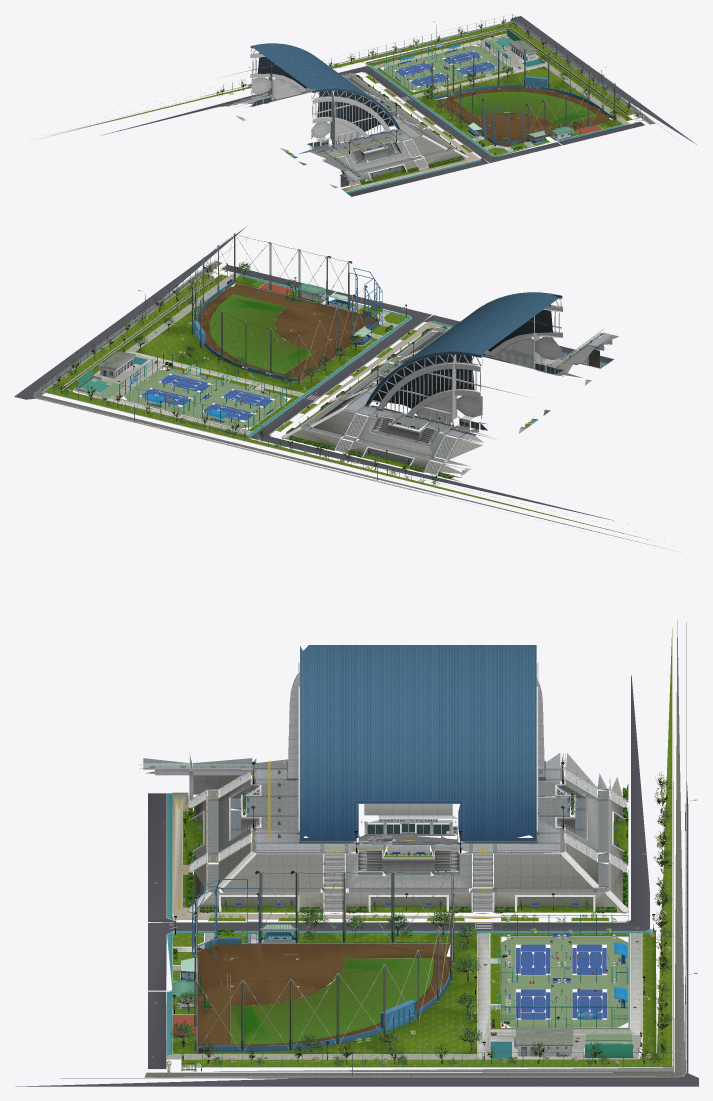
Rendered from raimonN3.glb.
3 renders of one model, top to bottom at view 1: azimuth 30°, elevation 25°; view 2: azimuth 150°, elevation 25°; view 3: azimuth 270°, elevation 25°, orthographic. The views are drawn at different scales.
Visible parts, largest first — view 1: w40h020__0__569__0_r3, w40g003__10__415__0_r3, w40g000__12__339__0_r3, w40h012__1__386__0, w40h013__2__515__0, w40h012__15__399__0, w40h012__13__397__0, w40g003a__2__528__0, w40g003__21__425__0_r3, w40g003a__1__527__0, w40h020__4__572__0_r3, w40g003__4__409__0 (+12 smaller); view 2: w40h020__0__569__0_r3, w40g003__10__415__0_r3, w40g000__12__339__0_r3, w40h013__2__515__0, w40h012__15__399__0, w40h012__1__386__0, w40g003a__2__528__0, w40h012__13__397__0, w40g003__21__425__0_r3, w40h020__4__572__0_r3, w40g003a__1__527__0, w40g003__4__409__0 (+12 smaller); view 3: w40h020__0__569__0_r3, w40g003__10__415__0_r3, w40g003a__2__528__0, w40g000__12__339__0_r3, w40g003__21__425__0_r3, w40h013__2__515__0, w40h012__15__399__0, w40h012__1__386__0, w40h012__13__397__0, w40g003a__1__527__0, w40g000__15__342__0_r3, w40g003__4__409__0 (+13 smaller).
Boxes of the visible parts, left/top/right/bottom form: w40h020__0__569__0_r3: left=220, top=43, right=400, bottom=153; w40g003__10__415__0_r3: left=60, top=22, right=633, bottom=184; w40g000__12__339__0_r3: left=101, top=16, right=696, bottom=196; w40h012__1__386__0: left=431, top=49, right=615, bottom=147; w40h013__2__515__0: left=379, top=33, right=510, bottom=92; w40h012__15__399__0: left=434, top=88, right=612, bottom=146; w40h012__13__397__0: left=453, top=91, right=597, bottom=125; w40g003a__2__528__0: left=220, top=74, right=465, bottom=188; w40g003__21__425__0_r3: left=227, top=74, right=453, bottom=180; w40g003a__1__527__0: left=241, top=36, right=546, bottom=191; w40h020__4__572__0_r3: left=257, top=52, right=394, bottom=131; w40g003__4__409__0: left=373, top=40, right=629, bottom=151; w40h020__0__569__0_r3: left=364, top=292, right=582, bottom=438; w40g003__10__415__0_r3: left=44, top=274, right=646, bottom=539; w40g000__12__339__0_r3: left=14, top=226, right=613, bottom=520; w40h013__2__515__0: left=119, top=352, right=292, bottom=430; w40h012__15__399__0: left=197, top=283, right=379, bottom=382; w40h012__1__386__0: left=191, top=233, right=382, bottom=384; w40g003a__2__528__0: left=285, top=328, right=612, bottom=477; w40h012__13__397__0: left=209, top=294, right=315, bottom=374; w40g003__21__425__0_r3: left=301, top=328, right=612, bottom=466; w40h020__4__572__0_r3: left=372, top=304, right=552, bottom=408; w40g003a__1__527__0: left=73, top=303, right=605, bottom=468; w40g003__4__409__0: left=107, top=273, right=397, bottom=434; w40h020__0__569__0_r3: left=286, top=645, right=545, bottom=844; w40g003__10__415__0_r3: left=172, top=628, right=672, bottom=1066; w40g003a__2__528__0: left=145, top=753, right=628, bottom=912; w40g000__12__339__0_r3: left=15, top=675, right=698, bottom=1086; w40g003__21__425__0_r3: left=143, top=753, right=608, bottom=892; w40h013__2__515__0: left=498, top=914, right=628, bottom=1028; w40h012__15__399__0: left=196, top=943, right=450, bottom=1050; w40h012__1__386__0: left=181, top=870, right=454, bottom=1052; w40h012__13__397__0: left=230, top=958, right=433, bottom=1044; w40g003a__1__527__0: left=173, top=769, right=641, bottom=1059; w40g000__15__342__0_r3: left=144, top=619, right=686, bottom=1077; w40g003__4__409__0: left=166, top=933, right=641, bottom=1059.
Bounding box in the file's own units: 284 × 42.76 × 171.
Materials: 101 (101 with a texture image).
